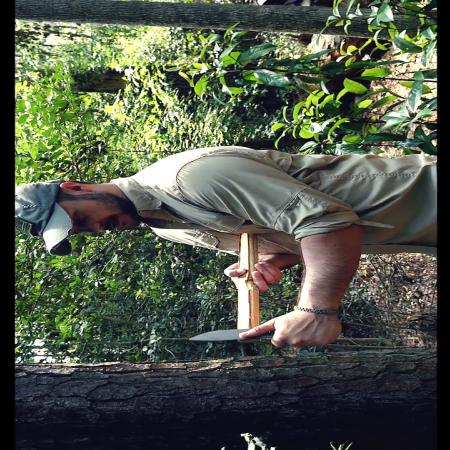long weapon: (180, 320, 316, 354)
